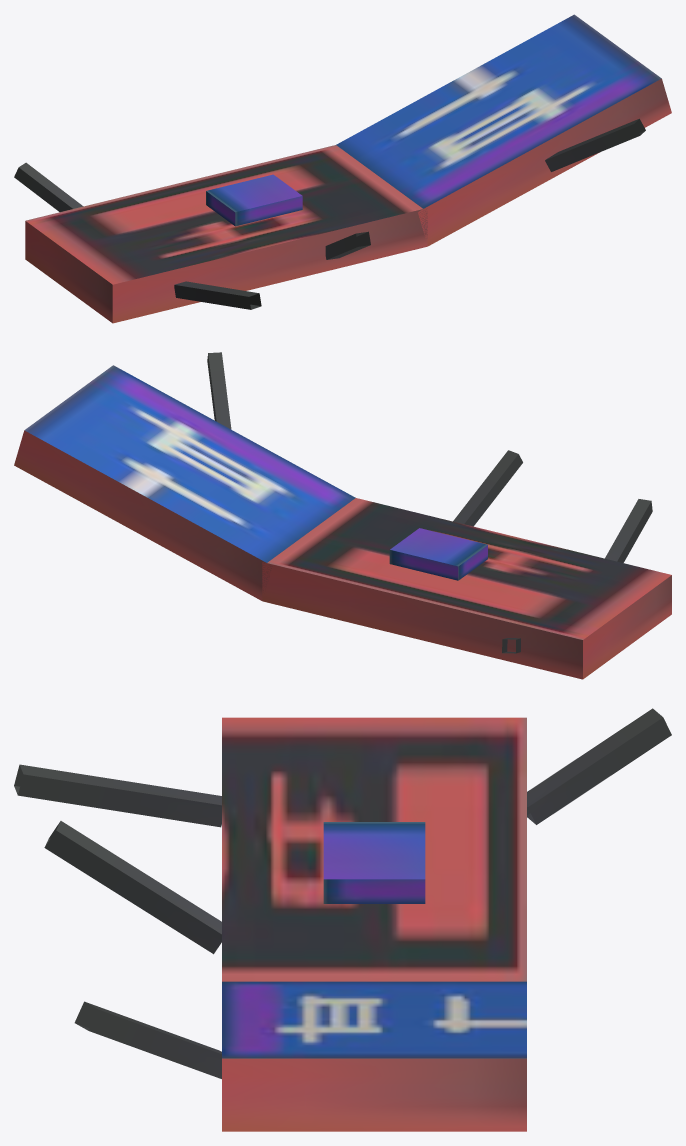
File: debris_tokyo_sign_board.glb
The picture shows the model from 3 angles, top to bottom: view 1: azimuth 30°, elevation 25°; view 2: azimuth 150°, elevation 25°; view 3: azimuth 270°, elevation 25°; orthographic projection. The views are drawn at different scales.
Parts seen in each view (by area): view 1: debris_tokyo_sign_board; view 2: debris_tokyo_sign_board; view 3: debris_tokyo_sign_board.
Part boxes in pixels (x1,y1,x2,y2): debris_tokyo_sign_board: (14, 14, 671, 323); debris_tokyo_sign_board: (14, 352, 671, 679); debris_tokyo_sign_board: (14, 708, 671, 1131).
Bounding box in the file's own units: 3.32 × 0.6298 × 1.94.
1 material, 1 textured.
